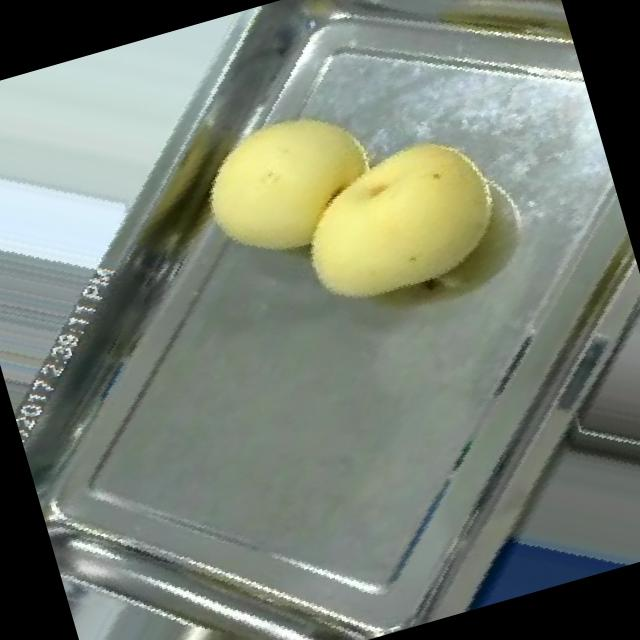Fruit: (254, 93, 544, 358), (168, 71, 414, 294)
